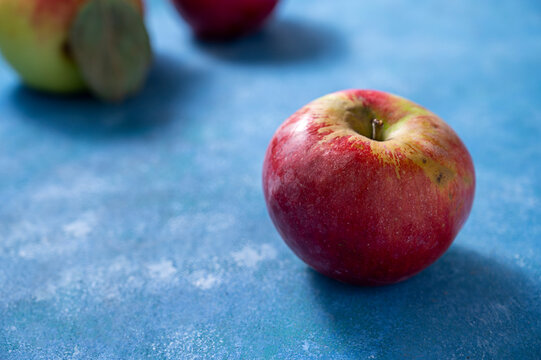apple/: (251, 81, 495, 301)
